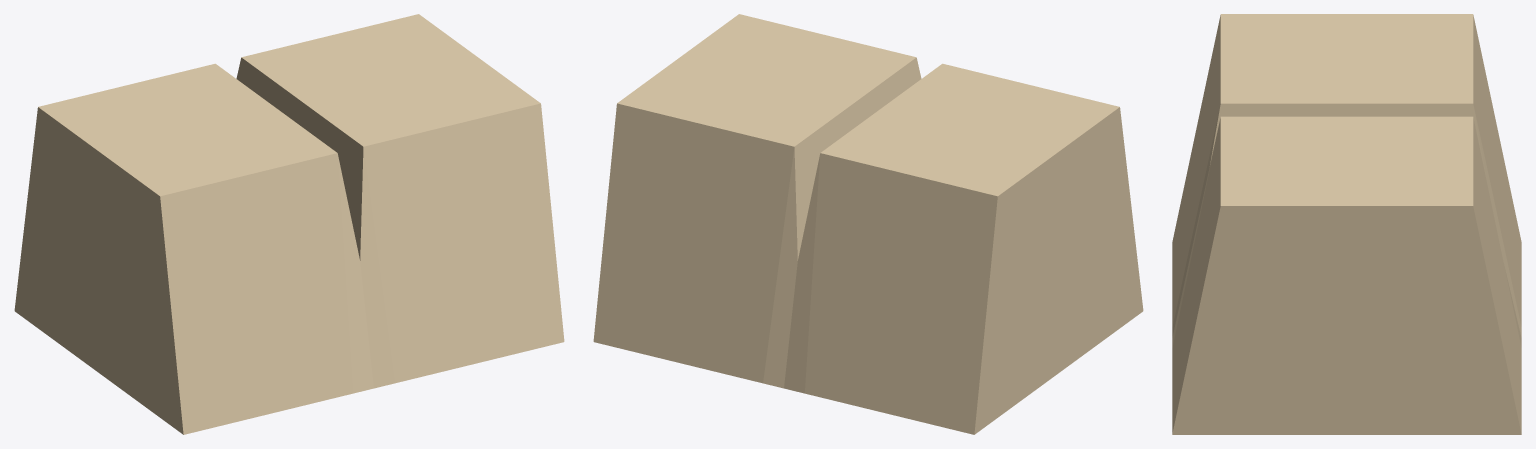
Rendered from Tronky.fbx.
3 views of the same model, side by side, from view 1: azimuth 30°, elevation 25°; view 2: azimuth 150°, elevation 25°; view 3: azimuth 270°, elevation 25° (orthographic). The views are drawn at different scales.
Visible parts, largest first — view 1: Cube.001; view 2: Cube.001; view 3: Cube.001.
Boxes of the visible parts, x1,y1,x2,y2 form: Cube.001: (14, 14, 564, 434); Cube.001: (593, 14, 1143, 434); Cube.001: (1172, 14, 1521, 434).
Bounding box in the file's own units: 1.8 × 1.38 × 1.
